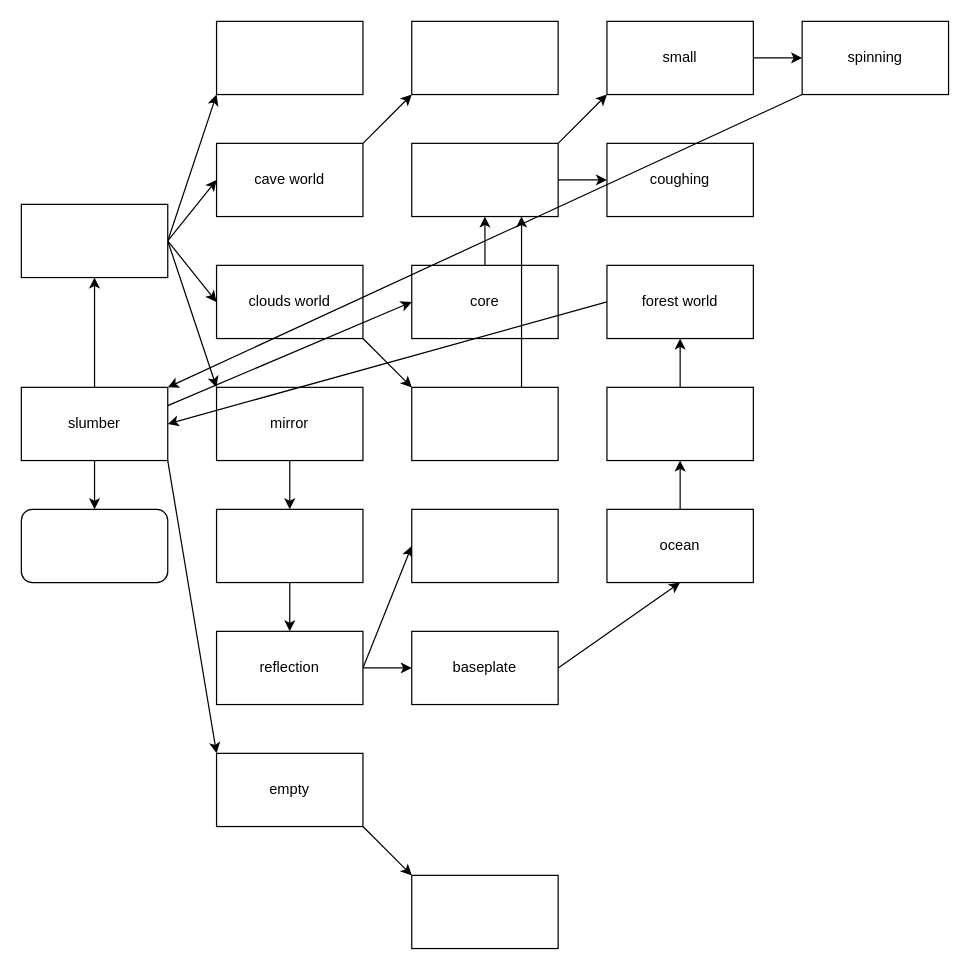
Some shapes in this 970 by 970 pixel diagram are drawn without their labels. Each missing label, with the centre of its shape:
"deep slumber" goes at point 94,545.
"dream world" goes at point 94,240.
"flower world" goes at point 484,57.
"gears world" goes at point 484,423.
"machine" goes at point 484,179.
"street" goes at point 679,423.
"twitching" goes at point 484,911.
